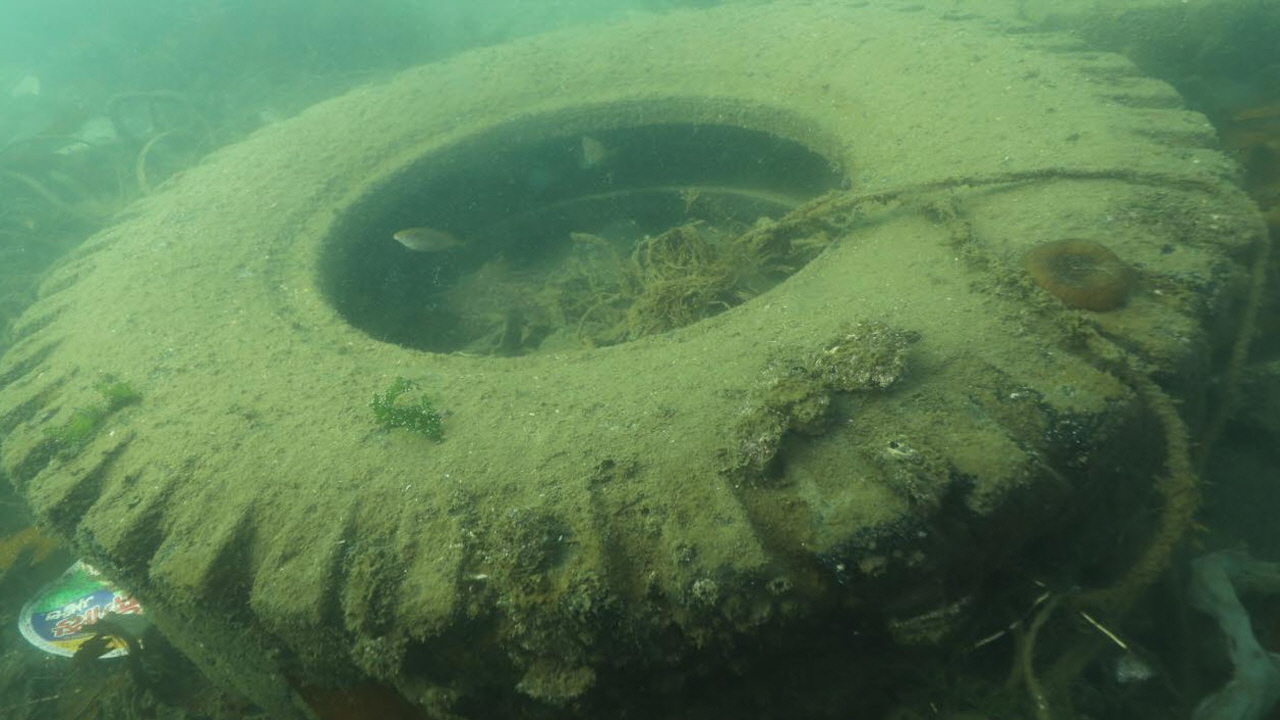bundle of ropes: (753, 161, 1272, 719)
tire: (0, 0, 1253, 719)
